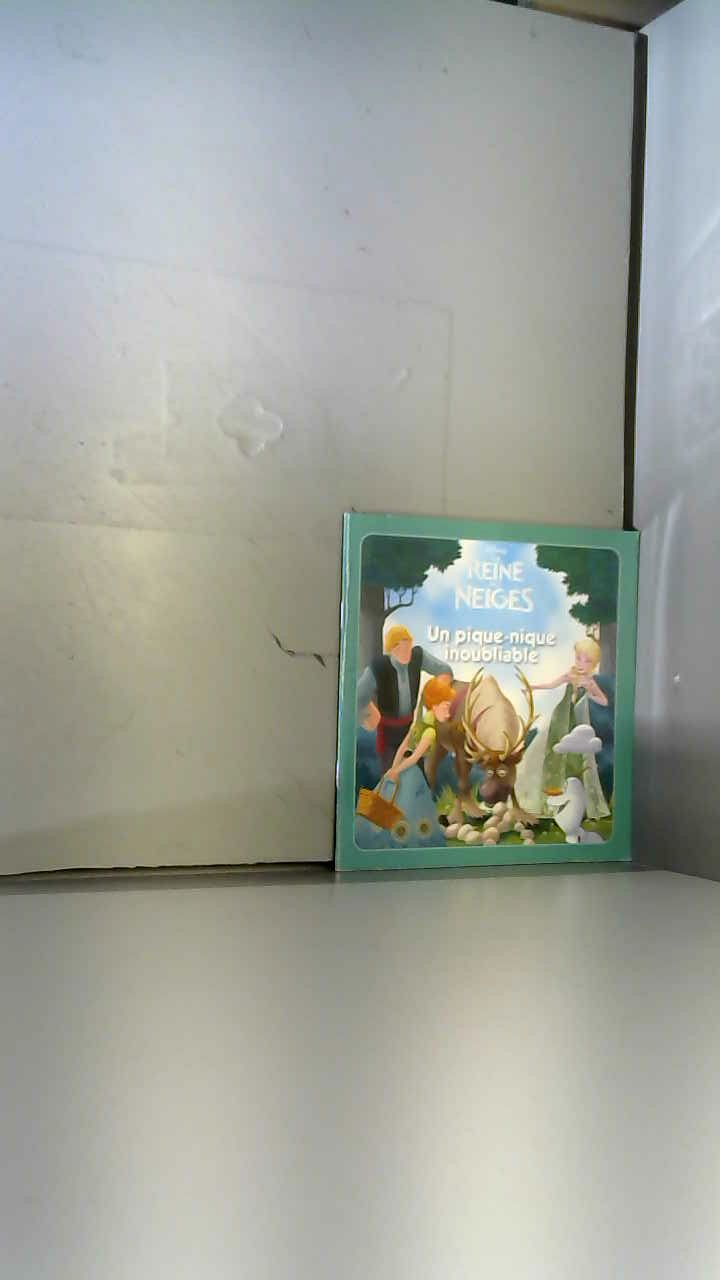book: (321, 493, 658, 895)
